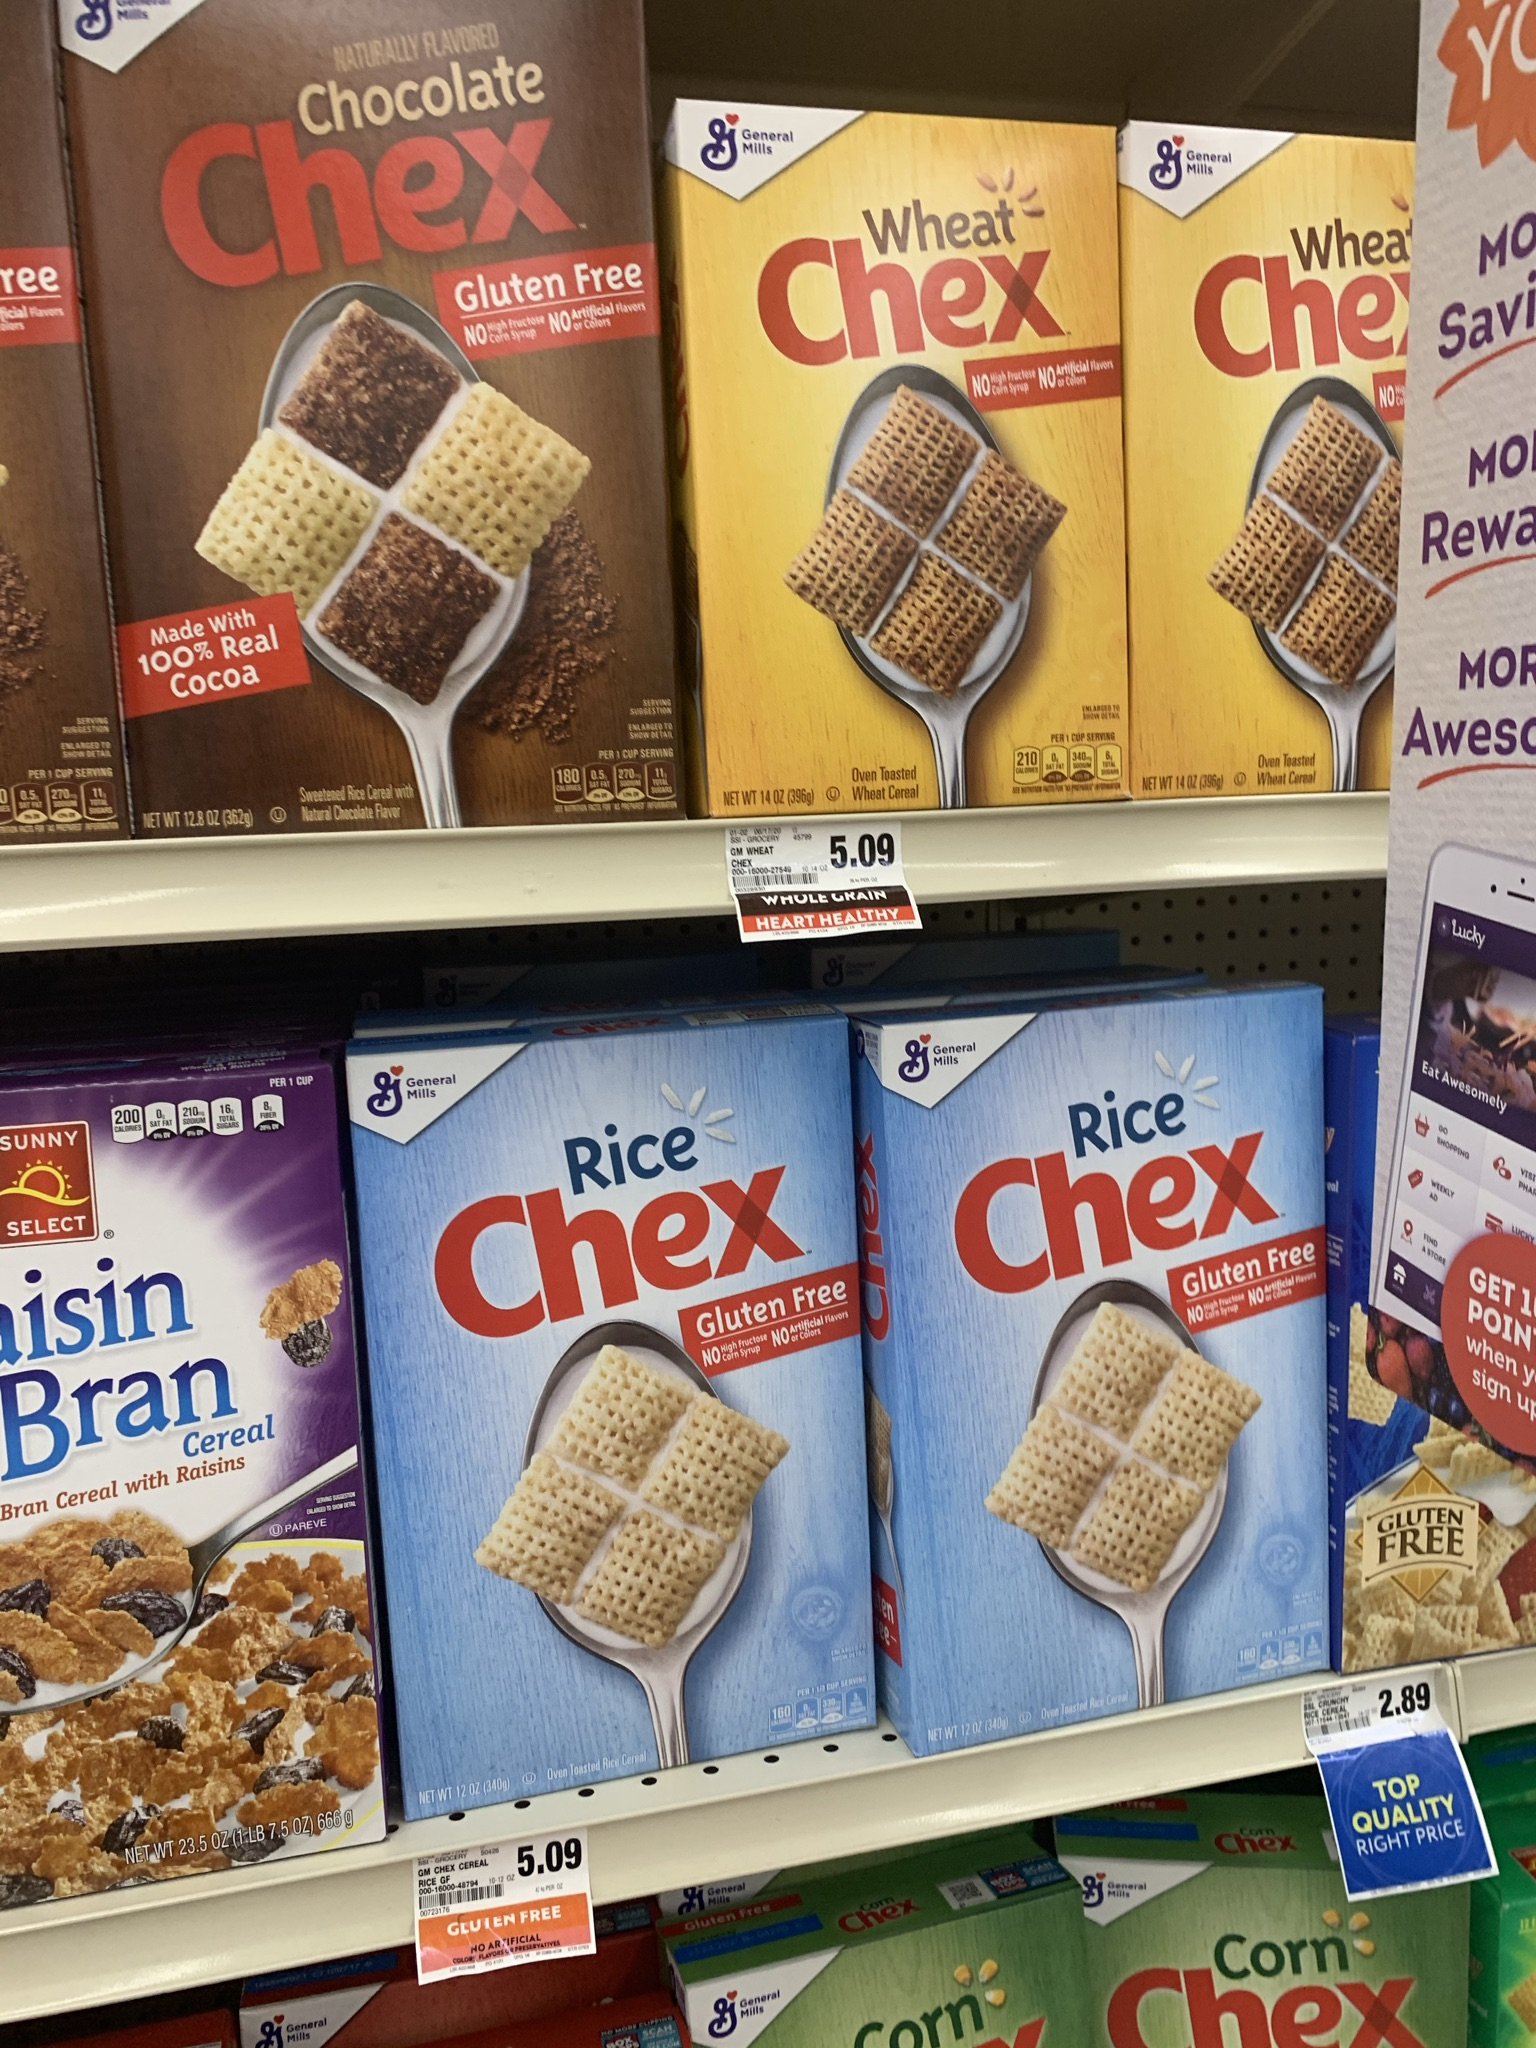box: (95, 3, 642, 808), (395, 1071, 858, 1732), (700, 140, 1104, 808), (910, 1030, 1317, 1679), (2, 1098, 337, 1850), (1144, 135, 1392, 785)
